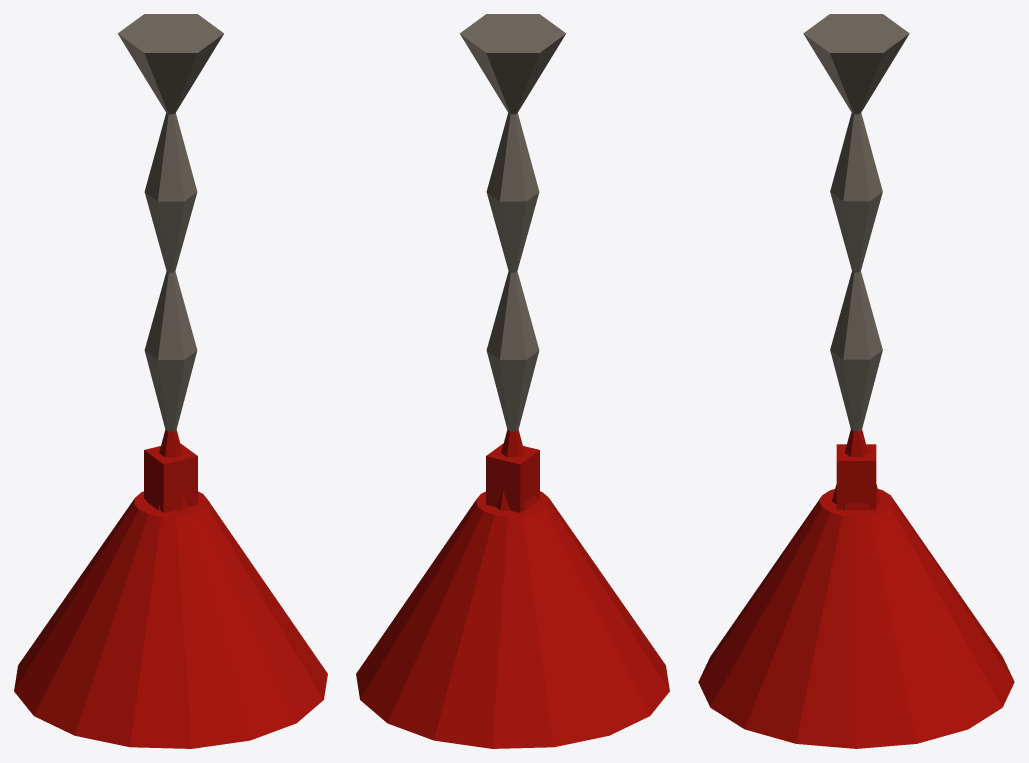
The model's file is lamp_test.glb.
The picture shows the model from 3 angles, left to right: view 1: azimuth 30°, elevation 25°; view 2: azimuth 150°, elevation 25°; view 3: azimuth 270°, elevation 25°; orthographic projection.
Parts seen in each view (by area): view 1: Lamp; view 2: Lamp; view 3: Lamp.
Boxes of the visible parts, bbox=[...] form: Lamp: bbox=[14, 14, 327, 748]; Lamp: bbox=[356, 14, 669, 748]; Lamp: bbox=[698, 14, 1014, 748].
Bounding box in the file's own units: 0.3414 × 0.8207 × 0.3414.
